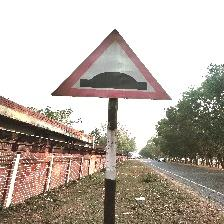Speed-breaker: (55, 32, 170, 99)
